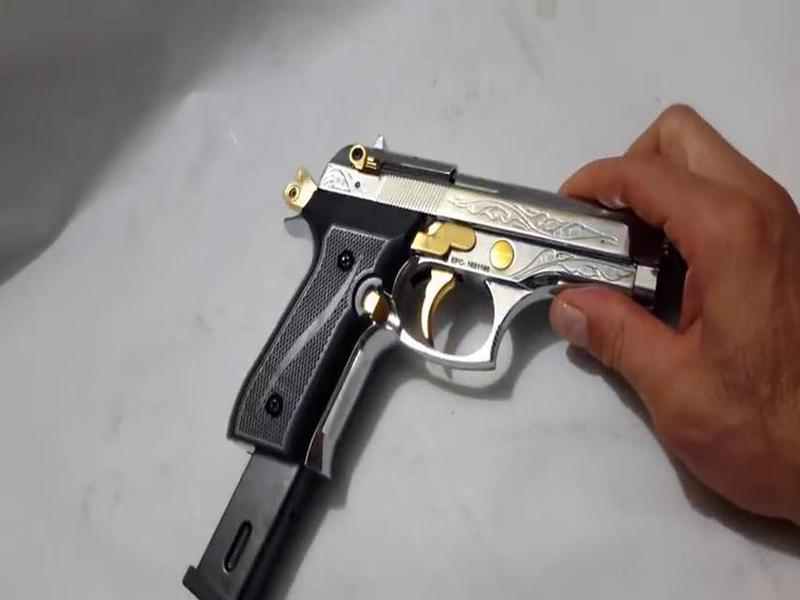Pistola: (212, 119, 697, 504)
